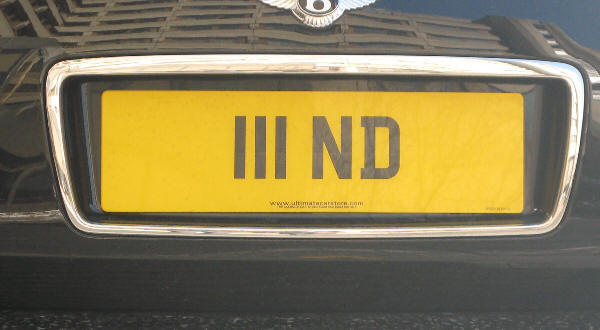license_plate: (100, 89, 524, 214)
